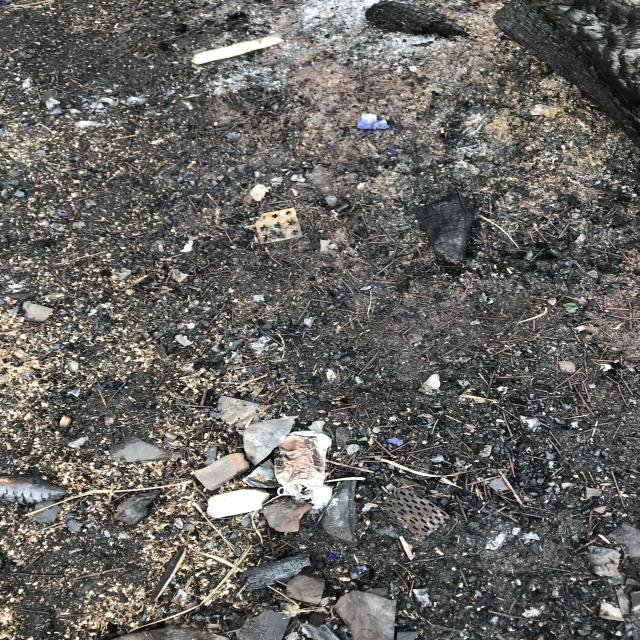litter: (377, 486, 451, 540), (277, 430, 333, 496), (1, 476, 72, 508), (255, 208, 304, 244), (243, 459, 280, 486), (357, 113, 387, 130), (416, 413, 433, 425)
